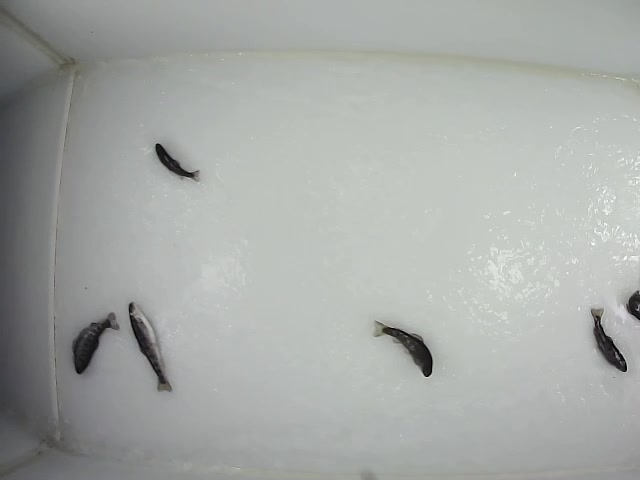fish: (125, 297, 174, 395), (369, 317, 434, 378), (71, 309, 120, 376), (588, 306, 627, 374), (153, 142, 200, 182)
